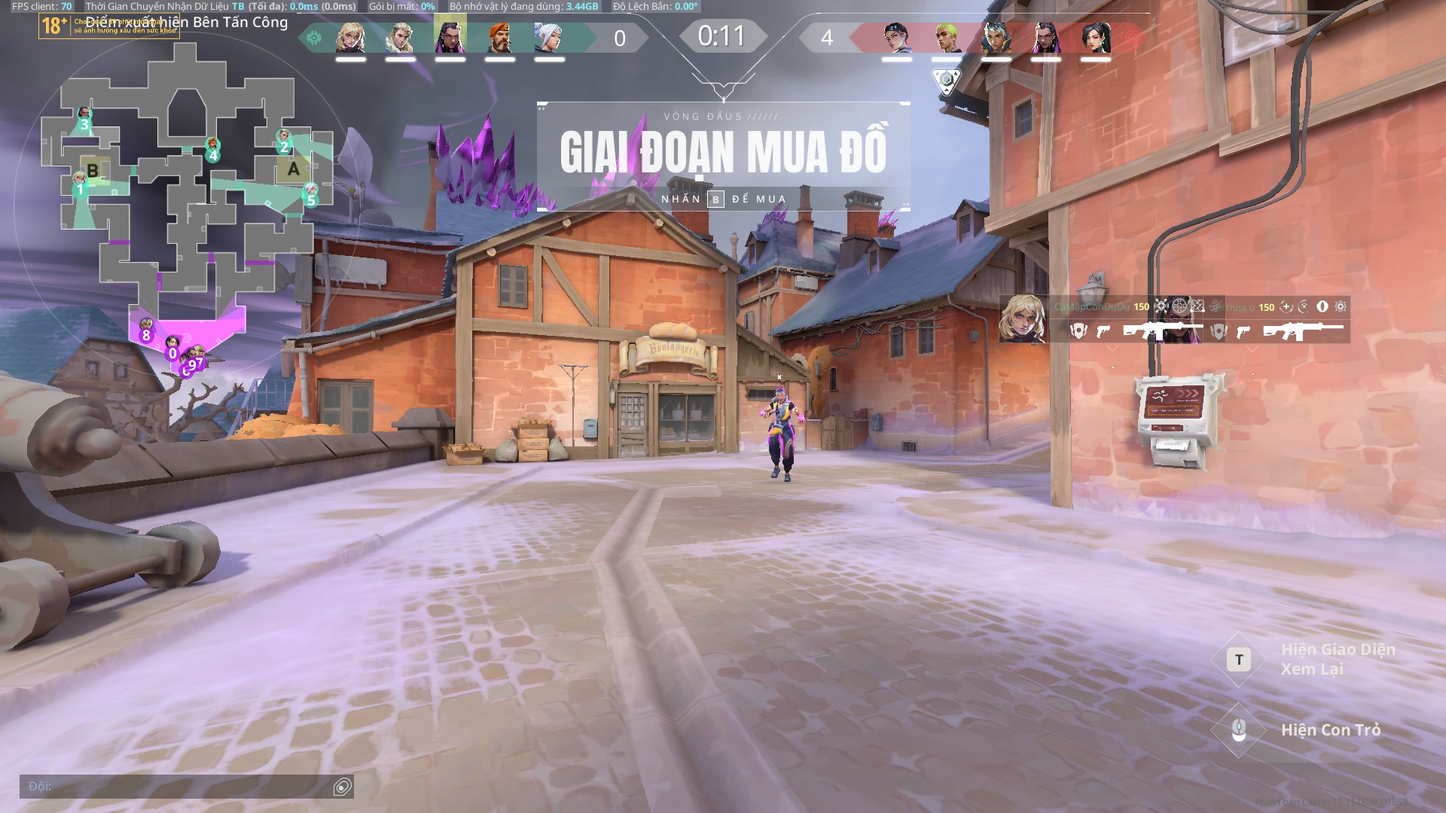body: (772, 397, 793, 423)
head: (774, 386, 786, 400)
